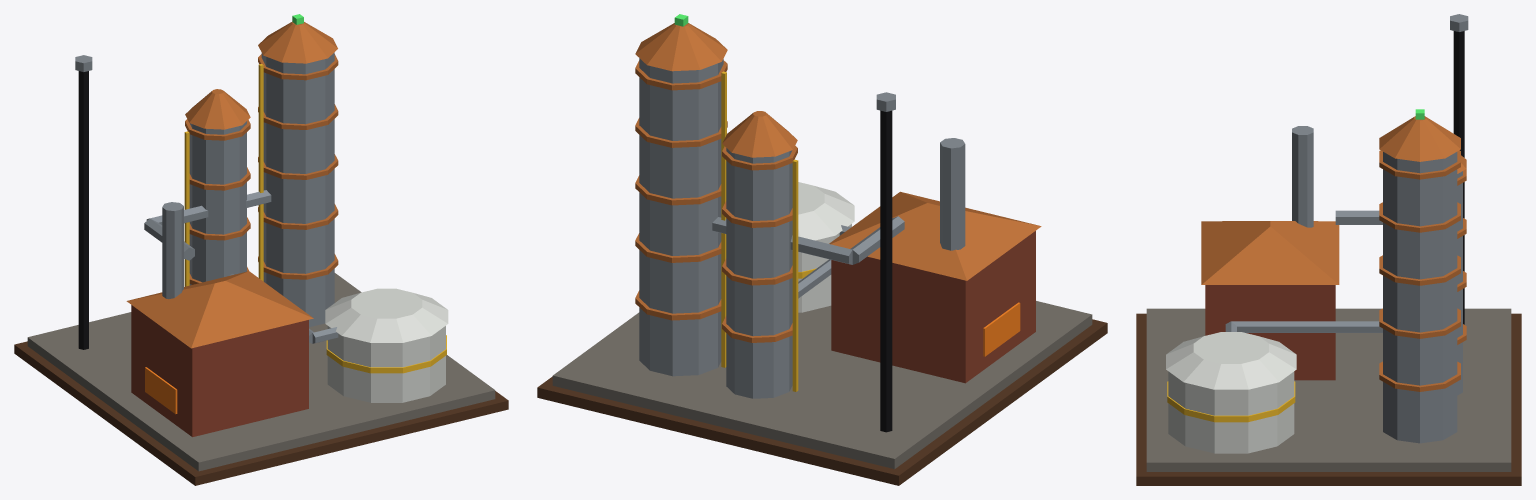
Rendered from refinery.obj.
3 views of the same model, side by side, from view 1: azimuth 30°, elevation 25°; view 2: azimuth 150°, elevation 25°; view 3: azimuth 270°, elevation 25° (orthographic). The views are drawn at different scales.
Parts seen in each view (by area): view 1: Columns, Body, Heater, Tank, Flare, Pipes; view 2: Columns, Body, Heater, Flare, Tank, Pipes; view 3: Body, Columns, Heater, Tank, Pipes, Flare.
Part boxes in pixels (left/top/right/bottom): Columns: left=184, top=22, right=338, bottom=327; Body: left=14, top=273, right=508, bottom=485; Heater: left=126, top=202, right=313, bottom=437; Tank: left=325, top=288, right=448, bottom=402; Flare: left=75, top=55, right=92, bottom=349; Pipes: left=144, top=190, right=338, bottom=343; Columns: left=635, top=23, right=798, bottom=398; Body: left=537, top=301, right=1107, bottom=485; Heater: left=829, top=138, right=1041, bottom=383; Flare: left=876, top=92, right=895, bottom=432; Tank: left=798, top=182, right=854, bottom=312; Pipes: left=712, top=216, right=904, bottom=298; Body: left=1136, top=308, right=1521, bottom=485; Columns: left=1379, top=116, right=1466, bottom=443; Heater: left=1201, top=126, right=1339, bottom=380; Tank: left=1166, top=332, right=1296, bottom=453; Pipes: left=1225, top=210, right=1382, bottom=332; Flare: left=1450, top=14, right=1468, bottom=324.
Bounding box in the file's own units: 2.96 × 2.84 × 2.96.
